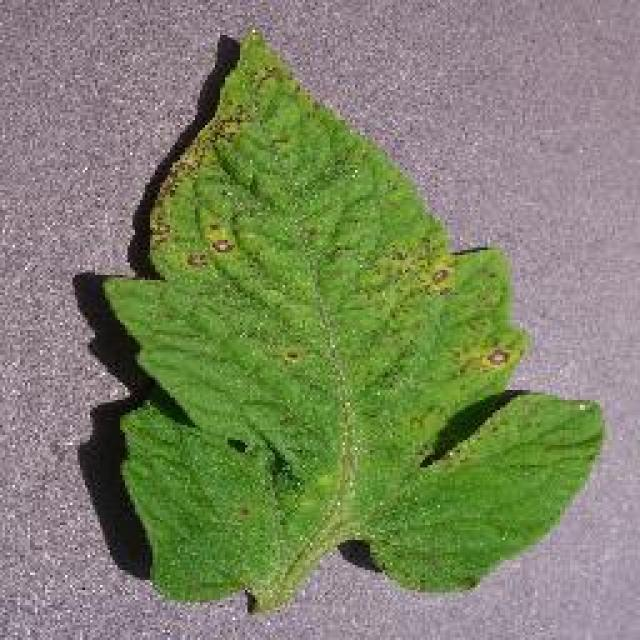Tomato Septoria spot leaf: (92, 35, 608, 607)
